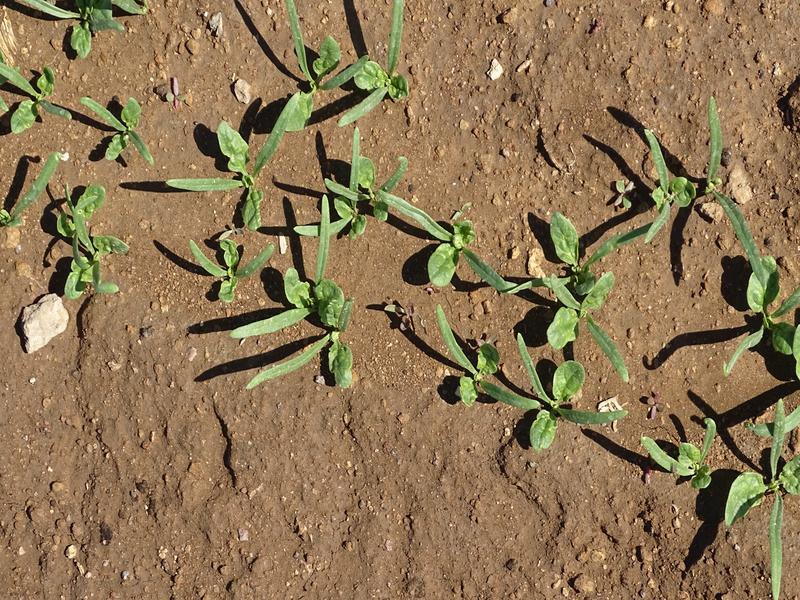Espinaca: (206, 10, 400, 400), (3, 1, 152, 300), (648, 389, 800, 580), (391, 184, 507, 418), (525, 222, 624, 447), (629, 106, 748, 230), (726, 251, 800, 355)
